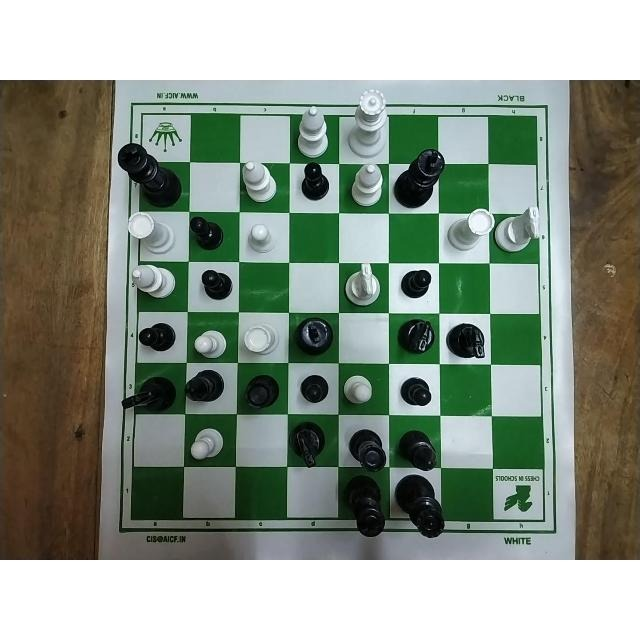black-bishop: (395, 428, 437, 473), (183, 369, 225, 403)
black-king: (117, 142, 183, 208), (392, 149, 447, 209), (338, 475, 385, 537), (293, 316, 333, 354)
black-knight: (122, 373, 178, 414), (287, 420, 325, 468), (446, 319, 488, 361), (394, 316, 434, 354)
black-pawn: (188, 213, 224, 252), (299, 163, 331, 203), (138, 321, 176, 354), (197, 268, 235, 299), (399, 375, 433, 407), (397, 268, 431, 298), (299, 372, 329, 403)
black-queen: (394, 474, 444, 538)
black-rook: (347, 427, 387, 473), (242, 374, 279, 410)
white-bishop: (296, 105, 332, 157), (241, 159, 277, 207), (129, 263, 175, 299), (350, 160, 382, 207)
white-knight: (493, 205, 542, 253), (341, 260, 381, 308)
white-pawn: (188, 425, 224, 461), (191, 326, 226, 361), (340, 370, 372, 406), (244, 220, 276, 255)
white-queen: (346, 87, 388, 160)
white-rook: (119, 212, 176, 256), (446, 208, 494, 252), (241, 323, 280, 355)
